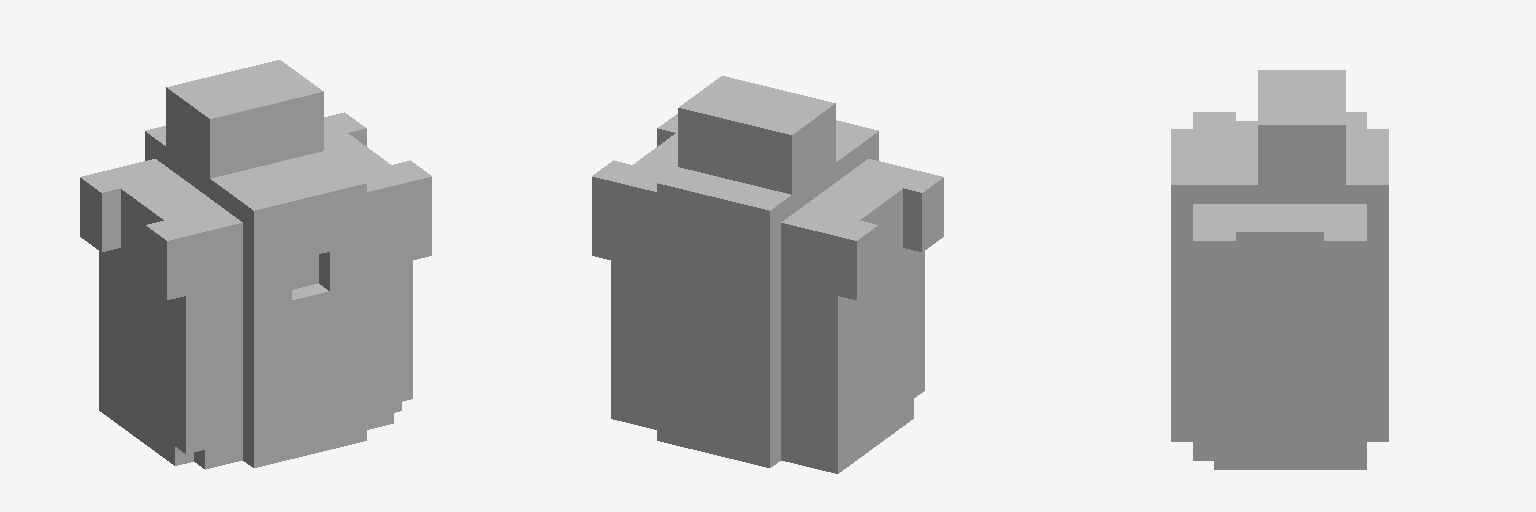
File: Droid_upperBody.obj
3 renders of one model, left to right at view 1: azimuth 30°, elevation 25°; view 2: azimuth 150°, elevation 25°; view 3: azimuth 270°, elevation 25°, orthographic.
Visible parts, largest first — view 1: object 1; view 2: object 1; view 3: object 1.
Boxes of the visible parts, x1=… form: object 1: x1=80, y1=60, x2=431, y2=469; object 1: x1=592, y1=76, x2=943, y2=473; object 1: x1=1171, y1=70, x2=1388, y2=469.
Bounding box in the file's own units: 1.4 × 1.6 × 1.